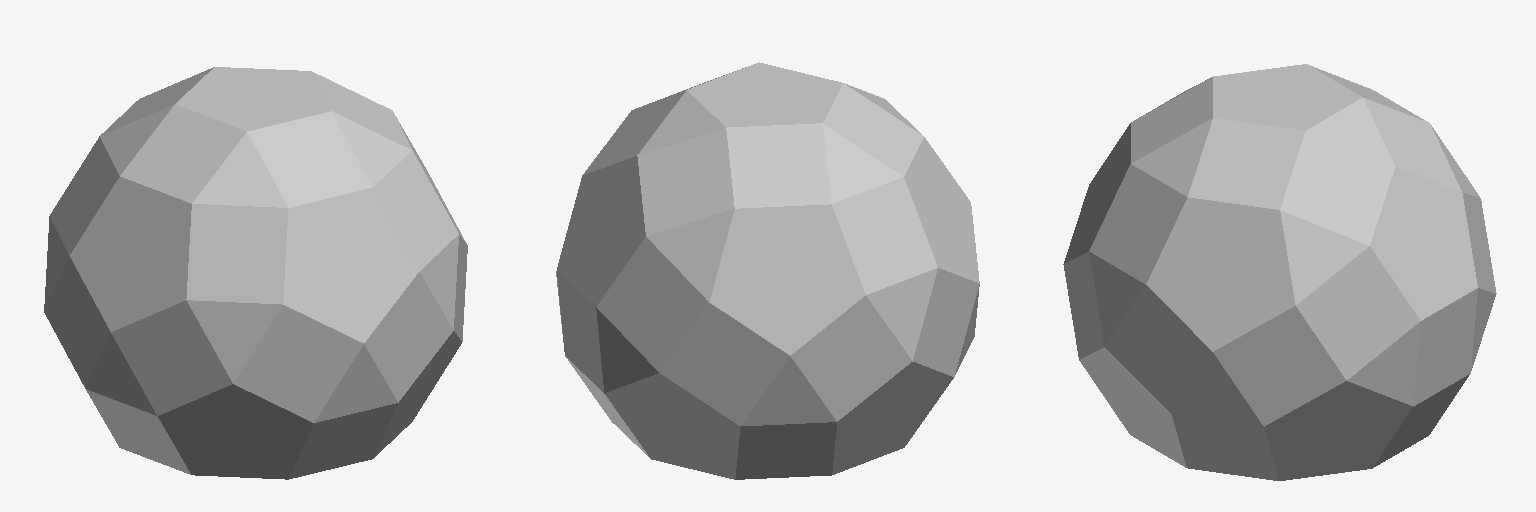
File: MetaGyrateDiminishedRhombIcosiDodecahedron.obj
3 renders of one model, left to right at view 1: azimuth 30°, elevation 25°; view 2: azimuth 150°, elevation 25°; view 3: azimuth 270°, elevation 25°, orthographic.
Parts seen in each view (by area): view 1: MetaGyrateDiminishedRhombIcosiDodecahedron; view 2: MetaGyrateDiminishedRhombIcosiDodecahedron; view 3: MetaGyrateDiminishedRhombIcosiDodecahedron.
Boxes of the visible parts, box(x1,y1,x2,y2) form: MetaGyrateDiminishedRhombIcosiDodecahedron: box(44, 67, 467, 479); MetaGyrateDiminishedRhombIcosiDodecahedron: box(556, 62, 979, 479); MetaGyrateDiminishedRhombIcosiDodecahedron: box(1063, 64, 1496, 480).
Size of the model in its own units: 3.18 by 2.71 by 3.34.